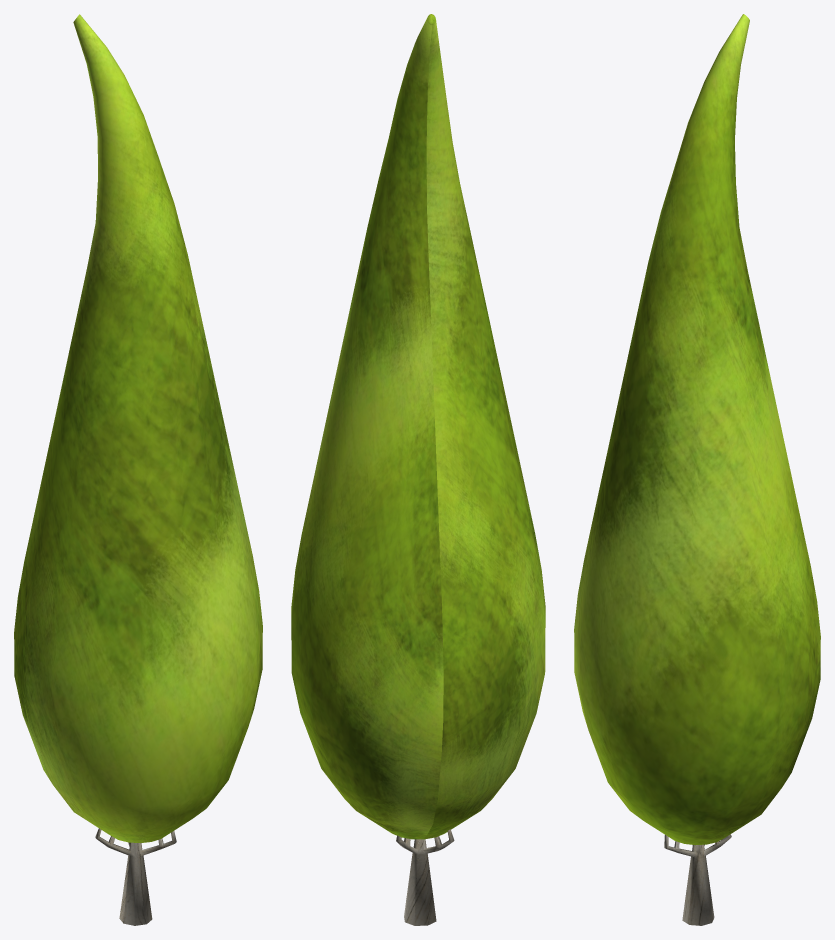
The model's file is cedar.glb.
3 renders of one model, left to right at view 1: azimuth 30°, elevation 25°; view 2: azimuth 150°, elevation 25°; view 3: azimuth 270°, elevation 25°, orthographic. The views are drawn at different scales.
Visible parts, largest first — view 1: tree crown 03.006, trunk 03.007; view 2: tree crown 03.006, trunk 03.007; view 3: tree crown 03.006, trunk 03.007.
Part boxes in pixels (bbox=[...]): tree crown 03.006: bbox=[14, 14, 262, 843]; trunk 03.007: bbox=[95, 828, 176, 925]; tree crown 03.006: bbox=[291, 14, 545, 839]; trunk 03.007: bbox=[396, 829, 454, 925]; tree crown 03.006: bbox=[574, 14, 820, 845]; trunk 03.007: bbox=[664, 834, 731, 925].
Bounding box in the file's own units: 5.09 × 20.22 × 5.09.
2 materials, 2 textured.
